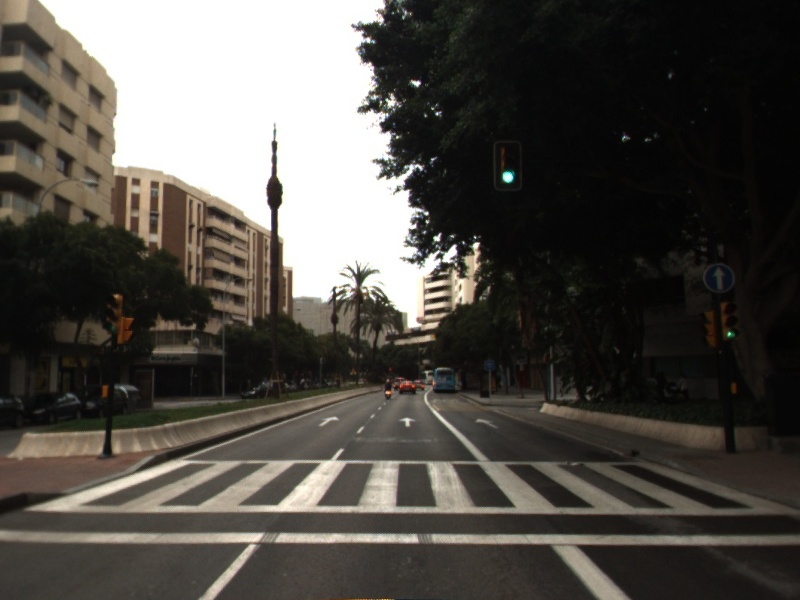STRAIGHT: (473, 416, 501, 431), (315, 413, 342, 428), (396, 414, 418, 429)
